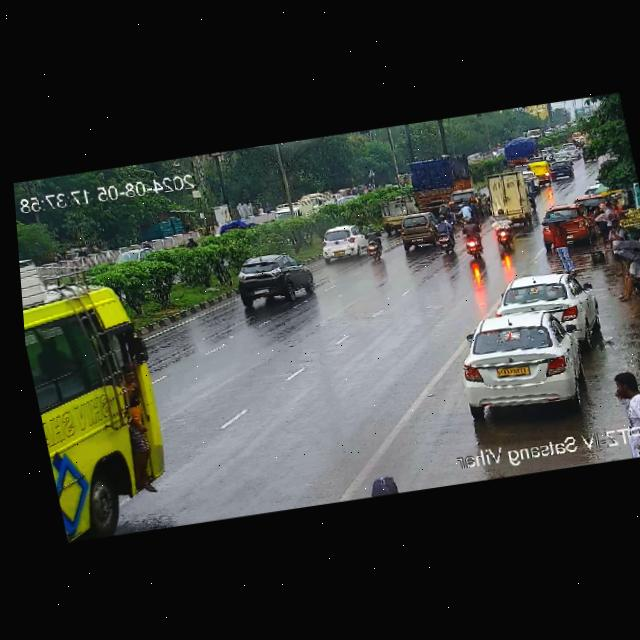bus: (18, 242, 188, 542)
car: (451, 310, 597, 420), (495, 267, 598, 340), (226, 247, 317, 309), (316, 223, 371, 263), (397, 209, 443, 248), (446, 186, 487, 219), (528, 162, 552, 188), (546, 159, 574, 181)
motorcycle: (429, 210, 459, 256), (490, 207, 519, 250), (459, 217, 485, 259), (362, 221, 385, 265), (436, 198, 453, 222), (459, 202, 474, 222)
person: (538, 209, 581, 274), (607, 368, 640, 428), (608, 249, 640, 303), (607, 219, 632, 274), (590, 204, 612, 253), (600, 197, 618, 218)
truck: (472, 165, 542, 232), (404, 155, 475, 205), (499, 133, 543, 167), (376, 197, 420, 230)
